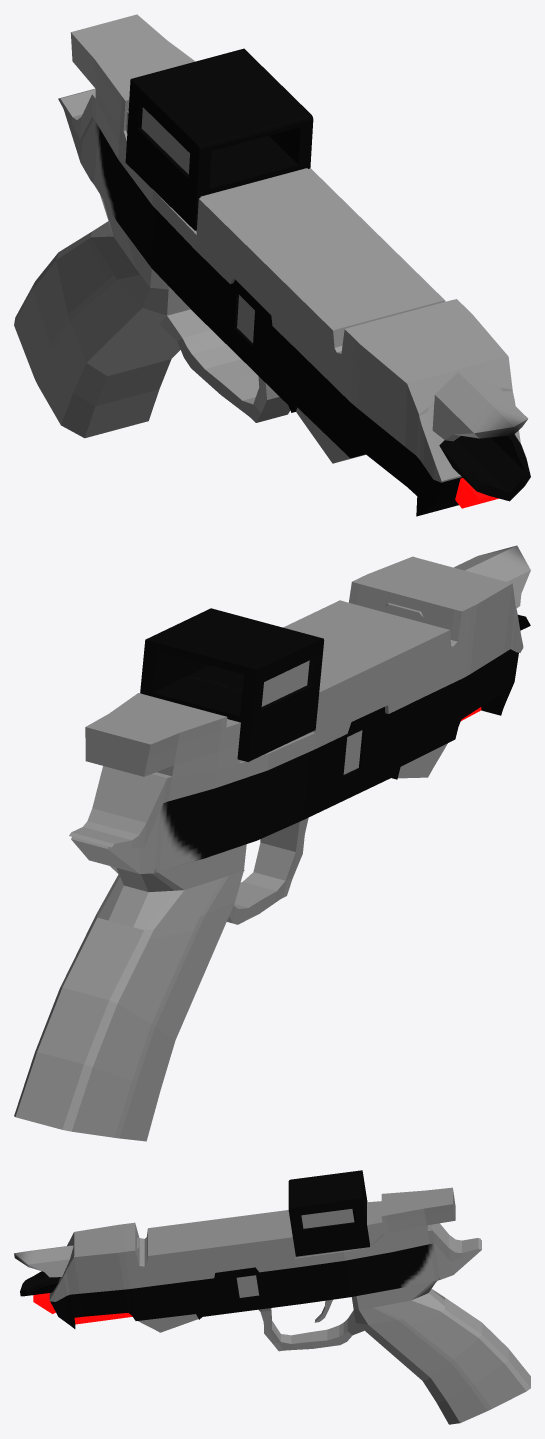
Rendered from sidearm3.fbx.
3 renders of one model, top to bottom at view 1: azimuth 30°, elevation 25°; view 2: azimuth 150°, elevation 25°; view 3: azimuth 270°, elevation 25°, orthographic. The views are drawn at different scales.
Visible parts, largest first — view 1: Cube.003; view 2: Cube.003; view 3: Cube.003.
Boxes of the visible parts, x1,y1,x2,y2 form: Cube.003: (14,14,530,516); Cube.003: (14,545,530,1141); Cube.003: (14,1170,530,1424).
Size of the model in its own units: 5.26 by 18.51 by 37.55.
